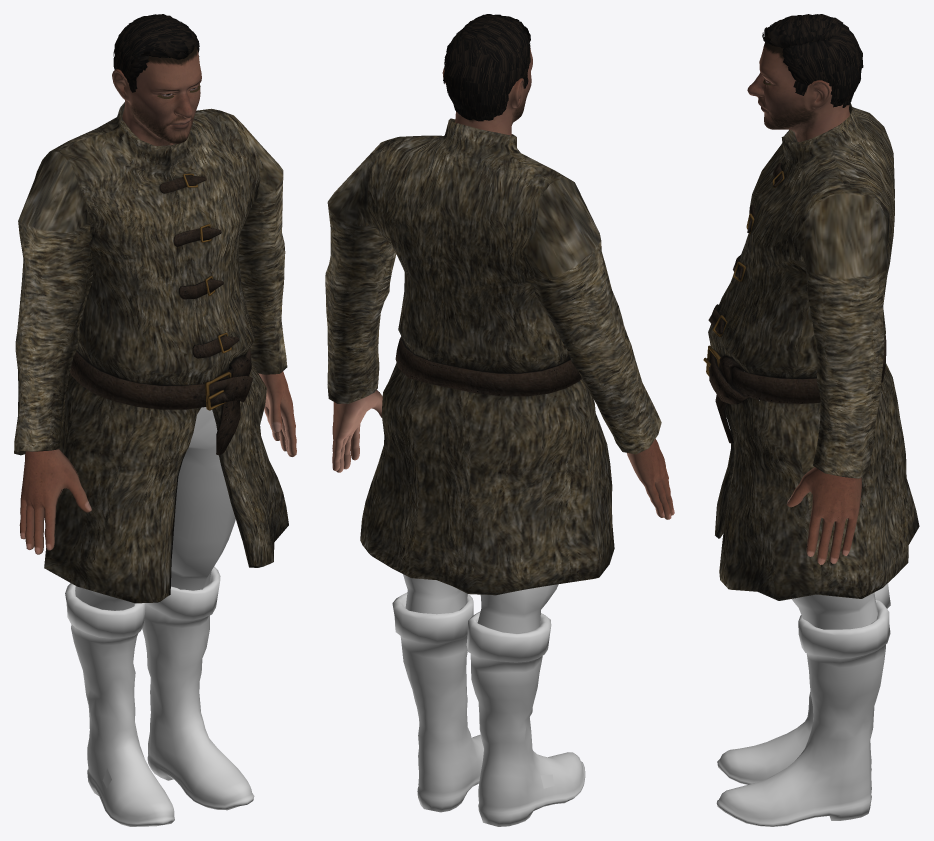
Rendered from RoyalMan_02.fbx.
The picture shows the model from 3 angles, left to right: view 1: azimuth 30°, elevation 25°; view 2: azimuth 150°, elevation 25°; view 3: azimuth 270°, elevation 25°; orthographic projection.
Parts seen in each view (by area): view 1: RoyalMan_02:Tops, RoyalMan_02:Shoes, RoyalMan_02:Body, RoyalMan_02:Bottoms, RoyalMan_02:Hair; view 2: RoyalMan_02:Tops, RoyalMan_02:Shoes, RoyalMan_02:Hair, RoyalMan_02:Body, RoyalMan_02:Bottoms; view 3: RoyalMan_02:Tops, RoyalMan_02:Shoes, RoyalMan_02:Body, RoyalMan_02:Hair, RoyalMan_02:Bottoms.
Boxes of the visible parts, x1,y1,x2,y2 form: RoyalMan_02:Tops: [14, 102, 288, 603]; RoyalMan_02:Shoes: [65, 566, 254, 826]; RoyalMan_02:Body: [19, 45, 296, 554]; RoyalMan_02:Bottoms: [75, 407, 235, 610]; RoyalMan_02:Hair: [113, 14, 199, 92]; RoyalMan_02:Tops: [325, 118, 661, 595]; RoyalMan_02:Shoes: [392, 592, 585, 826]; RoyalMan_02:Hair: [443, 14, 530, 121]; RoyalMan_02:Body: [332, 46, 674, 519]; RoyalMan_02:Bottoms: [403, 574, 558, 633]; RoyalMan_02:Tops: [703, 103, 919, 600]; RoyalMan_02:Shoes: [716, 583, 890, 826]; RoyalMan_02:Body: [747, 39, 861, 564]; RoyalMan_02:Hair: [762, 14, 863, 107]; RoyalMan_02:Bottoms: [759, 400, 877, 629].
Size of the model in its own units: 73.01 by 181 by 45.56.
